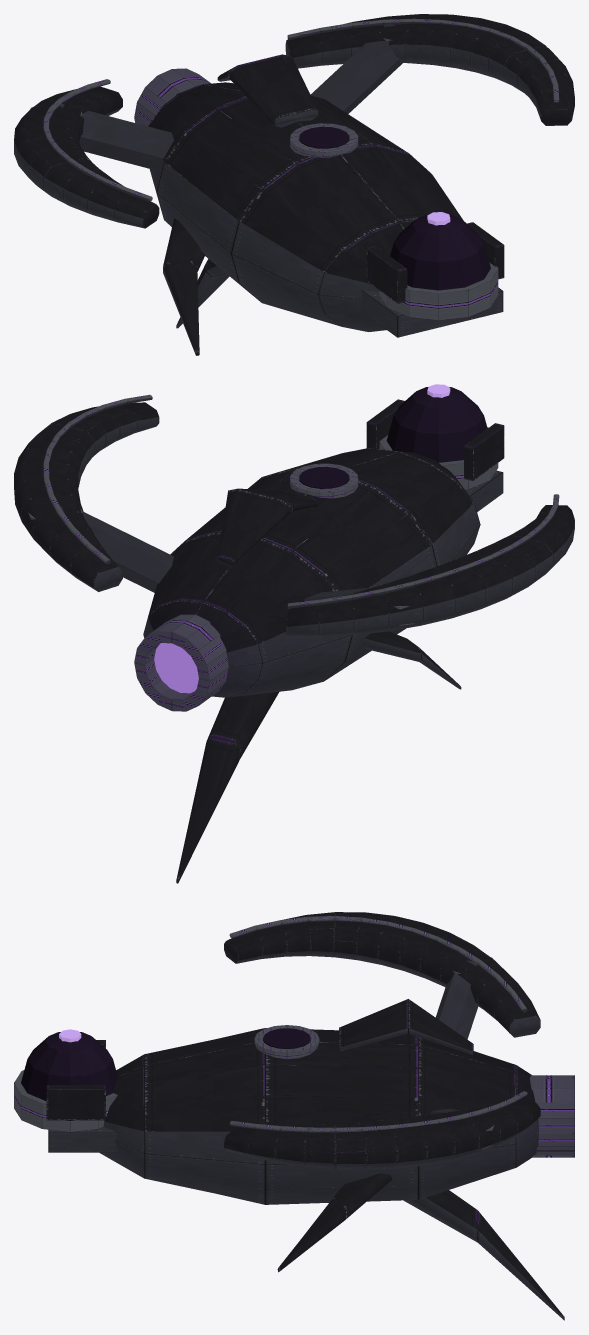
Rendered from pioneer-eris-l05-shield.glb.
The picture shows the model from 3 angles, top to bottom: view 1: azimuth 30°, elevation 25°; view 2: azimuth 150°, elevation 25°; view 3: azimuth 270°, elevation 25°; orthographic projection. The views are drawn at different scales.
Visible parts, largest first — view 1: Drone; view 2: Drone; view 3: Drone.
Boxes of the visible parts, box(x1,y1,x2,y2) form: Drone: box(14, 14, 574, 355); Drone: box(14, 384, 574, 883); Drone: box(14, 912, 574, 1320).
Size of the model in its own units: 1.28 by 0.791 by 1.29.
Materials: 3 (3 with a texture image).
